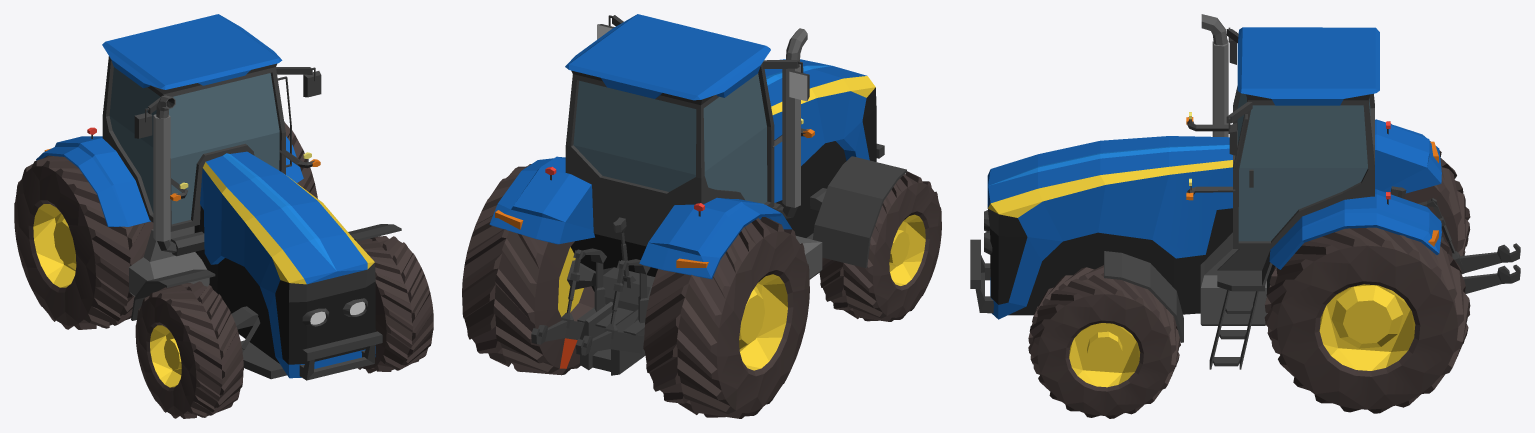
The model's file is tractor_001.glb.
3 views of the same model, side by side, from view 1: azimuth 30°, elevation 25°; view 2: azimuth 150°, elevation 25°; view 3: azimuth 270°, elevation 25° (orthographic). The views are drawn at different scales.
Parts seen in each view (by area): view 1: tractor_001; view 2: tractor_001; view 3: tractor_001.
Part boxes in pixels (x1,y1,x2,y2): tractor_001: (14,14,433,418); tractor_001: (462,14,941,418); tractor_001: (970,14,1520,418).
Bounding box in the file's own units: 2.6 × 2.86 × 4.64.
Materials: 1 (1 with a texture image).
